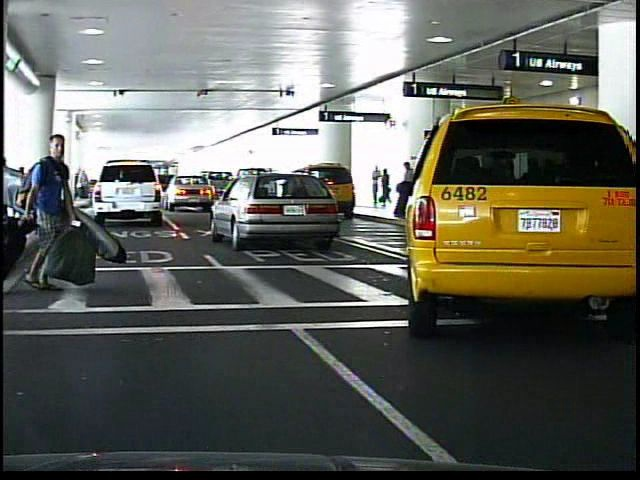person: (26, 125, 83, 302), (380, 165, 391, 207), (369, 165, 380, 207)
